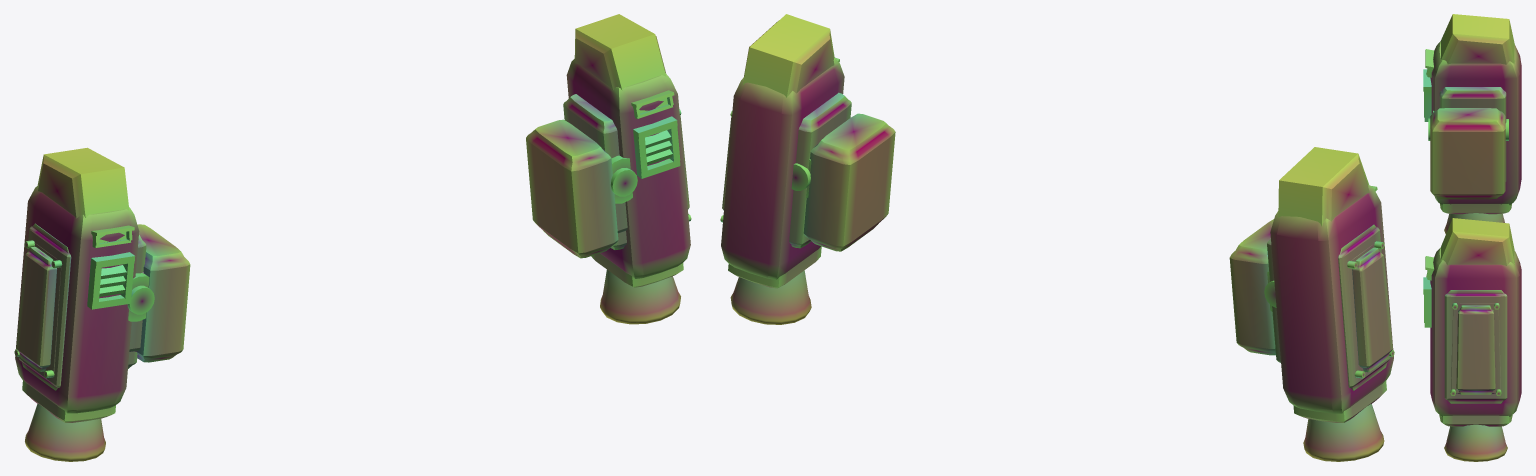
The model's file is llm_gen_leg_thrusters_047_7c15db.glb.
3 renders of one model, left to right at view 1: azimuth 30°, elevation 25°; view 2: azimuth 150°, elevation 25°; view 3: azimuth 270°, elevation 25°, orthographic. The views are drawn at different scales.
Parts seen in each view (by area): view 1: calf_thruster_hull_1_gold_l, calf_thruster_hull_1_gold_r, adapter_calf_clamp_r, adapter_calf_clamp_l, nacelle_upper_cowl_2_crimson_gloss_r, nacelle_upper_cowl_2_crimson_gloss_l, nacelle_flank_armor_6_crimson_gloss_l, calf_main_bell_8_vernier_bell_vernier_l, calf_main_bell_8_vernier_bell_vernier_r, adapter_sub_flank_frame_dark_5_adapter_dark_l, adapter_sub_tank_cradle_dark_0_adapter_dark_r, adapter_sub_nacelle_intake_louver_3_dark_l (+5 smaller); view 2: calf_thruster_hull_1_gold_l, calf_thruster_hull_1_gold_r, adapter_calf_clamp_r, nacelle_upper_cowl_2_crimson_gloss_r, nacelle_upper_cowl_2_crimson_gloss_l, nacelle_flank_armor_6_crimson_gloss_l, adapter_calf_clamp_l, calf_main_bell_8_vernier_bell_vernier_l, calf_main_bell_8_vernier_bell_vernier_r, adapter_sub_tank_cradle_dark_0_adapter_dark_r, adapter_sub_flank_frame_dark_5_adapter_dark_l, adapter_sub_nozzle_shroud_dark_7_adapter_dark_l (+1 smaller); view 3: calf_thruster_hull_1_gold_r, adapter_calf_clamp_l, calf_thruster_hull_1_gold_l, nacelle_flank_armor_6_crimson_gloss_r, nacelle_upper_cowl_2_crimson_gloss_l, nacelle_upper_cowl_2_crimson_gloss_r, adapter_sub_flank_frame_dark_5_adapter_dark_r, calf_main_bell_8_vernier_bell_vernier_r, adapter_sub_tank_cradle_dark_0_adapter_dark_l, adapter_sub_nozzle_shroud_dark_7_adapter_dark_r, adapter_sub_nozzle_shroud_dark_7_adapter_dark_l, calf_main_bell_8_vernier_bell_vernier_l (+5 smaller).
Boxes of the visible parts, x1,y1,x2,y2 form: calf_thruster_hull_1_gold_l: (15,185,139,413); calf_thruster_hull_1_gold_r: (566,58,690,278); adapter_calf_clamp_r: (526,119,632,258); adapter_calf_clamp_l: (128,224,190,362); nacelle_upper_cowl_2_crimson_gloss_r: (574,14,666,90); nacelle_upper_cowl_2_crimson_gloss_l: (37,147,129,218); nacelle_flank_armor_6_crimson_gloss_l: (14,240,62,378); calf_main_bell_8_vernier_bell_vernier_l: (25,403,105,461); calf_main_bell_8_vernier_bell_vernier_r: (600,270,680,324); adapter_sub_flank_frame_dark_5_adapter_dark_l: (18,223,71,390); adapter_sub_tank_cradle_dark_0_adapter_dark_r: (563,94,626,249); adapter_sub_nacelle_intake_louver_3_dark_l: (87,252,135,309); calf_thruster_hull_1_gold_l: (1270,184,1393,413); calf_thruster_hull_1_gold_r: (721,58,844,279); adapter_calf_clamp_r: (803,113,895,251); nacelle_upper_cowl_2_crimson_gloss_r: (742,14,834,97); nacelle_upper_cowl_2_crimson_gloss_l: (1278,147,1369,226); nacelle_flank_armor_6_crimson_gloss_l: (1347,241,1394,378); adapter_calf_clamp_l: (1229,219,1275,355); calf_main_bell_8_vernier_bell_vernier_l: (1303,404,1384,461); calf_main_bell_8_vernier_bell_vernier_r: (730,270,811,324); adapter_sub_tank_cradle_dark_0_adapter_dark_r: (789,92,851,248); adapter_sub_flank_frame_dark_5_adapter_dark_l: (1338,224,1390,390); adapter_sub_nozzle_shroud_dark_7_adapter_dark_l: (1293,380,1386,422); calf_thruster_hull_1_gold_r: (1430,247,1521,416); adapter_calf_clamp_l: (1430,108,1505,199); calf_thruster_hull_1_gold_l: (1430,41,1521,204); nacelle_flank_armor_6_crimson_gloss_r: (1450,303,1501,395); nacelle_upper_cowl_2_crimson_gloss_l: (1440,14,1514,64); nacelle_upper_cowl_2_crimson_gloss_r: (1440,218,1514,265); adapter_sub_flank_frame_dark_5_adapter_dark_r: (1444,290,1507,403); calf_main_bell_8_vernier_bell_vernier_r: (1444,424,1507,461); adapter_sub_tank_cradle_dark_0_adapter_dark_l: (1439,87,1506,181); adapter_sub_nozzle_shroud_dark_7_adapter_dark_r: (1439,415,1512,426); adapter_sub_nozzle_shroud_dark_7_adapter_dark_l: (1440,204,1511,214); calf_main_bell_8_vernier_bell_vernier_l: (1444,213,1504,234).
Bounding box in the file's own units: 85.13 × 35.8 × 14.33.
